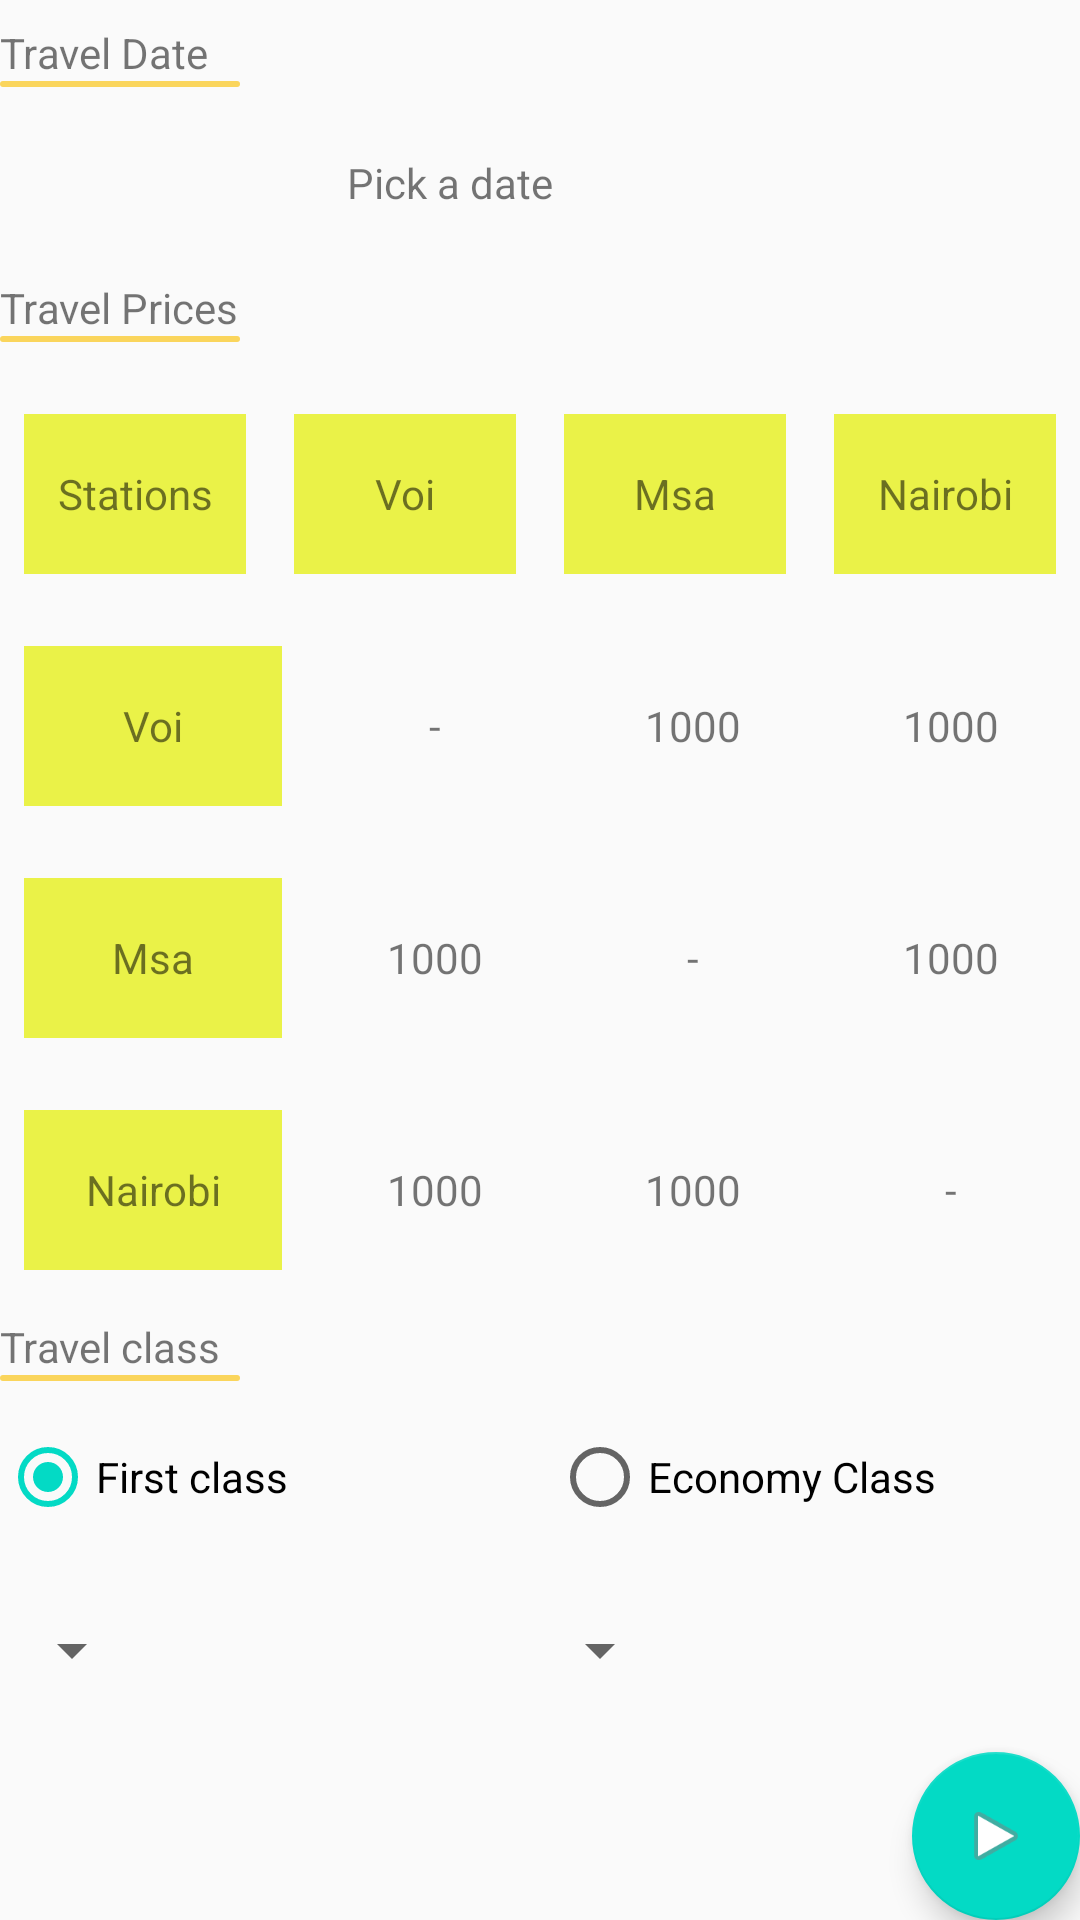

Icons on this 1080x1920 Android screen, each with its box as (x1, y1, x2, y2):
play: (912, 1752, 1080, 1920)
